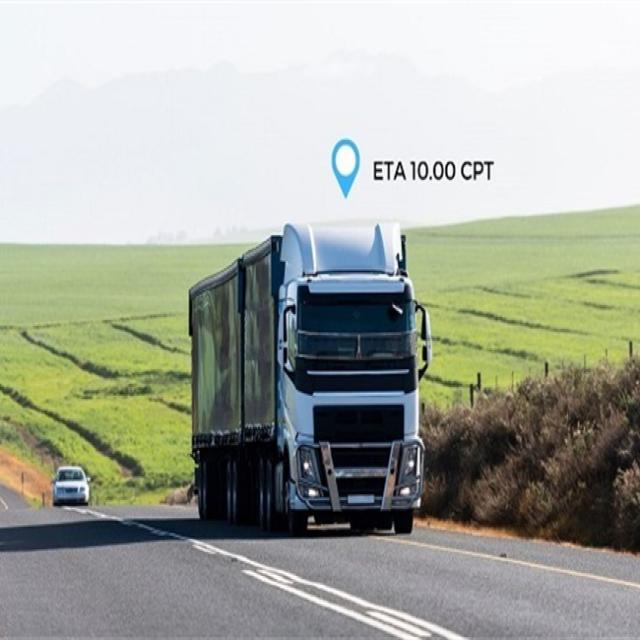Heavy Duty Truck: (187, 222, 435, 540)
Passenger Car: (53, 463, 91, 507)
